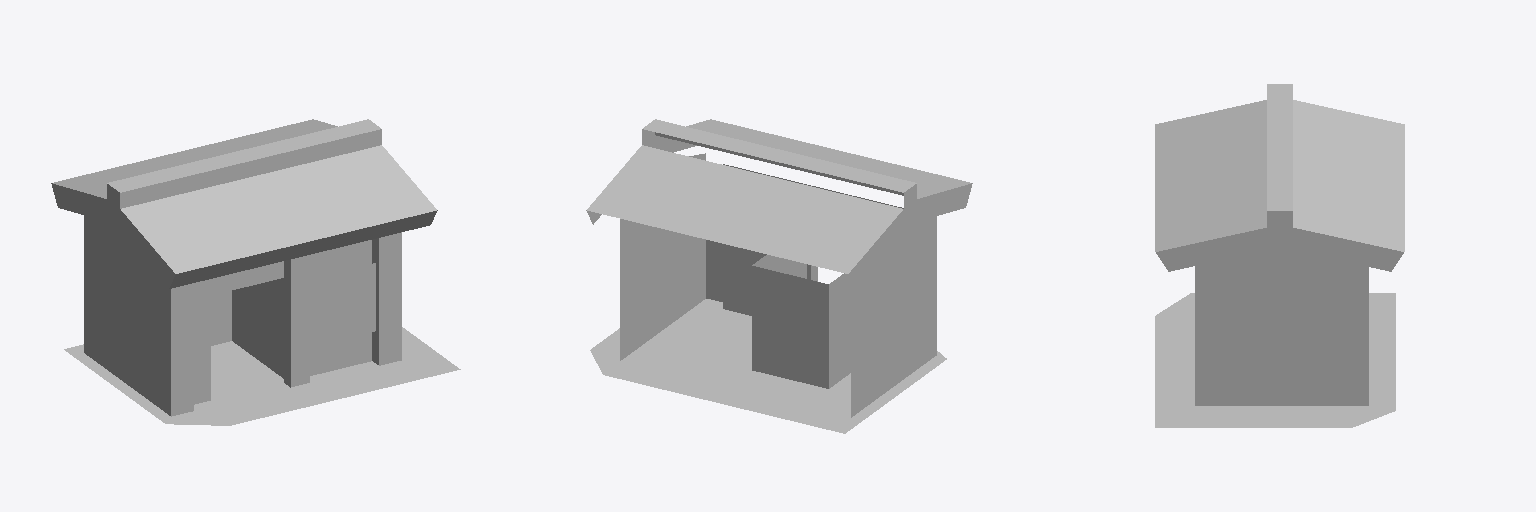
File: Ruins Research Center.obj
3 renders of one model, left to right at view 1: azimuth 30°, elevation 25°; view 2: azimuth 150°, elevation 25°; view 3: azimuth 270°, elevation 25°, orthographic.
Visible parts, largest first — view 1: polygon3, polygon2, polygon1, polygon0; view 2: polygon3, polygon1, polygon2; view 3: polygon3, polygon1, polygon2.
Part boxes in pixels (bbox=[...]): polygon3: bbox=[51, 119, 437, 410]; polygon2: bbox=[164, 232, 401, 416]; polygon1: bbox=[64, 327, 460, 425]; polygon0: bbox=[318, 278, 363, 324]; polygon3: bbox=[586, 119, 972, 417]; polygon1: bbox=[590, 299, 946, 433]; polygon2: bbox=[700, 226, 936, 358]; polygon3: bbox=[1155, 84, 1404, 405]; polygon1: bbox=[1155, 293, 1395, 427]; polygon2: bbox=[1195, 277, 1208, 405].
Bounding box in the file's own units: 74 × 51 × 56.